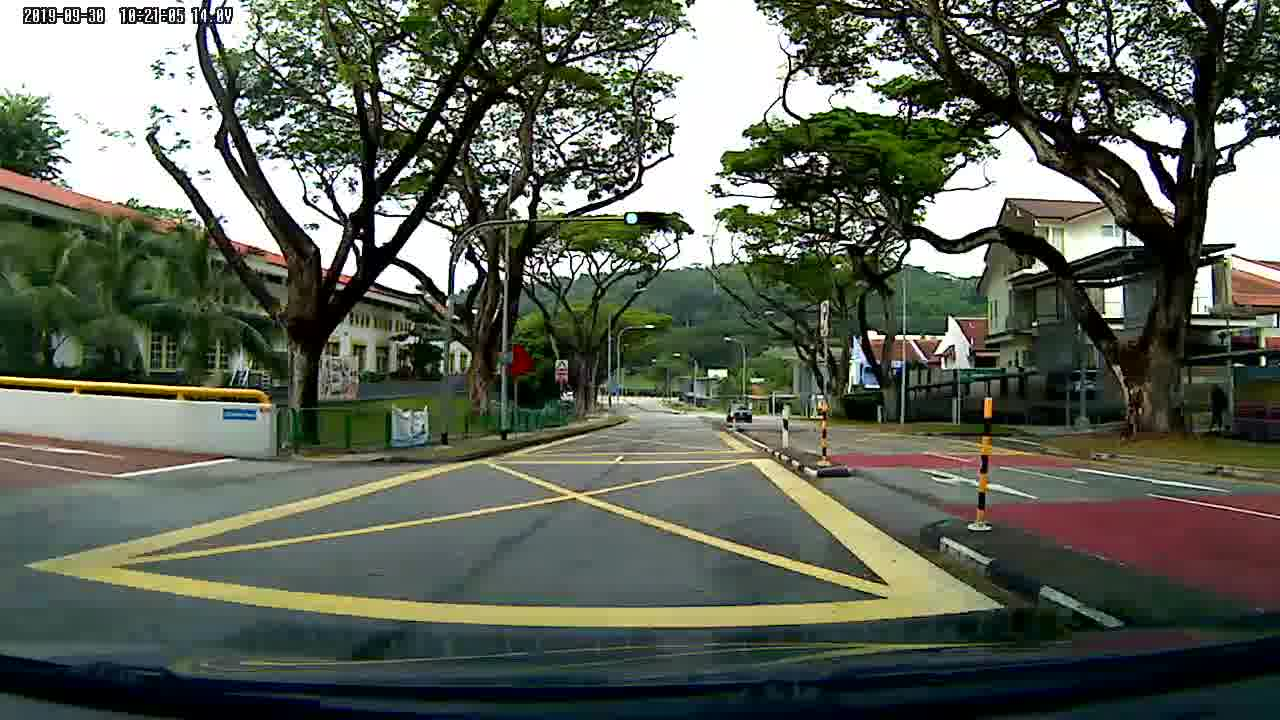car: (727, 401, 755, 427)
